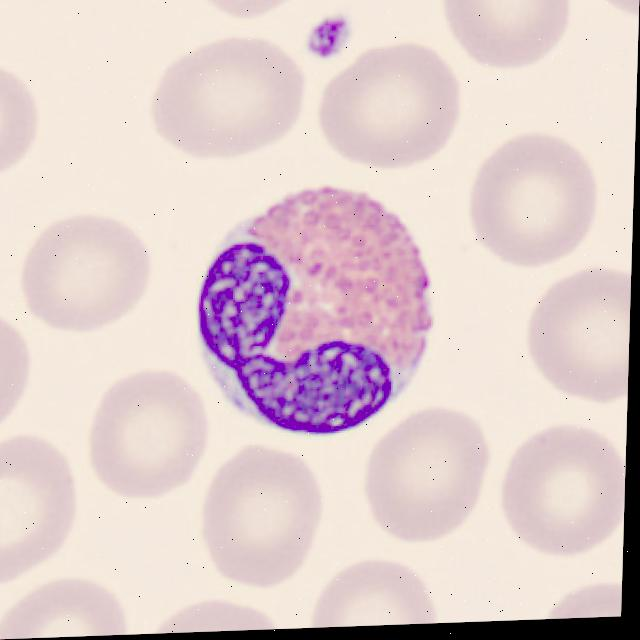eosinophil: (184, 166, 442, 439)
platelets: (300, 7, 360, 67)
rbc: (148, 31, 307, 159), (361, 399, 495, 550), (316, 40, 473, 166), (494, 415, 627, 560), (472, 129, 599, 277), (201, 441, 324, 591), (518, 256, 632, 411), (24, 208, 165, 331), (90, 366, 215, 496), (0, 427, 86, 582), (431, 0, 580, 85), (303, 545, 444, 628), (0, 574, 145, 640), (144, 591, 282, 634), (0, 61, 45, 192), (0, 298, 34, 426), (536, 573, 622, 619), (191, 0, 312, 24), (574, 0, 640, 31)
